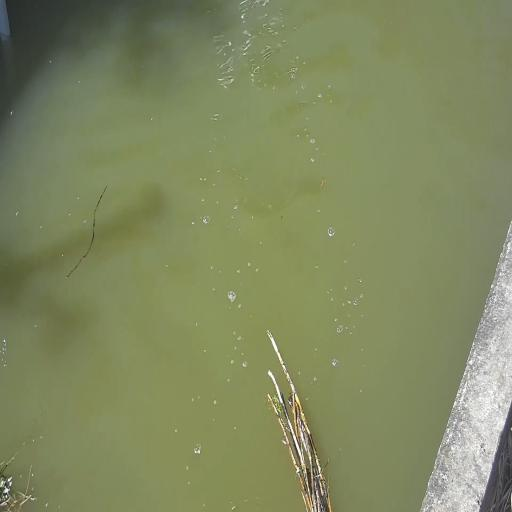twig: (258, 317, 340, 512), (0, 433, 40, 512)
